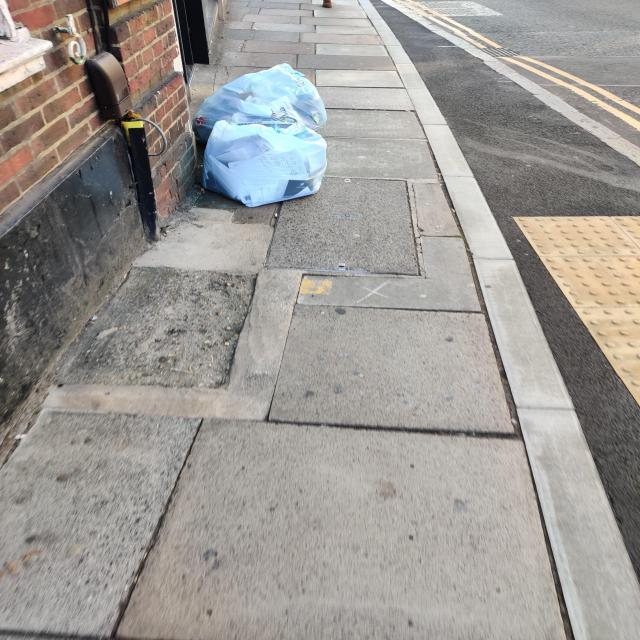litter: (179, 57, 333, 212)
